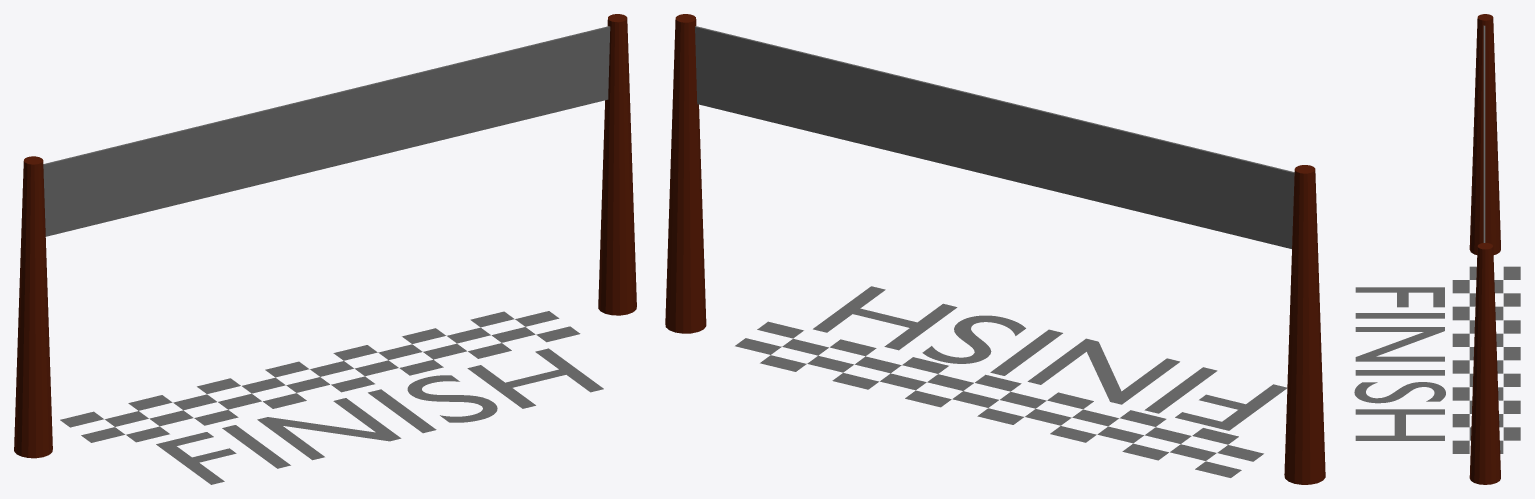
File: finish.obj
The picture shows the model from 3 angles, left to right: view 1: azimuth 30°, elevation 25°; view 2: azimuth 150°, elevation 25°; view 3: azimuth 270°, elevation 25°; orthographic projection. The views are drawn at different scales.
Visible parts, largest first — view 1: banner, marking, post; view 2: banner, marking, post; view 3: post, marking, banner.
Part boxes in pixels (x1,y1,x2,y2): banner: [43, 26, 610, 236]; marking: [60, 311, 603, 484]; post: [14, 14, 636, 458]; banner: [695, 26, 1294, 248]; marking: [735, 286, 1286, 477]; post: [665, 14, 1325, 484]; post: [1469, 14, 1500, 484]; marking: [1354, 266, 1520, 453]; banner: [1483, 25, 1485, 242].
Bounding box in the file's own units: 6.75 × 3.02 × 1.96.
